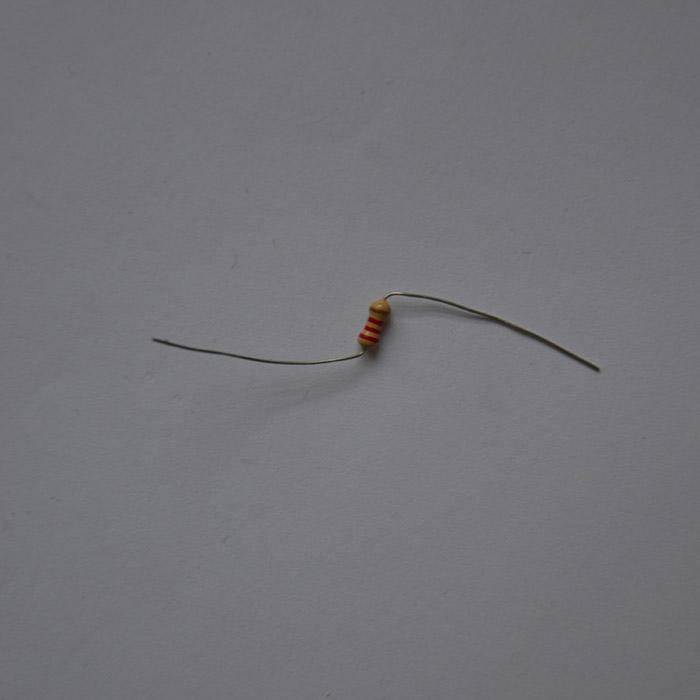resistor: (357, 297, 390, 347)
